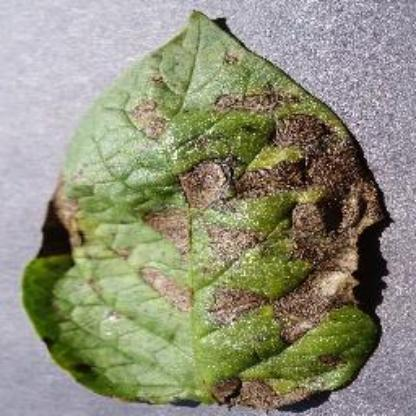Early-Blight: (16, 0, 402, 416)
